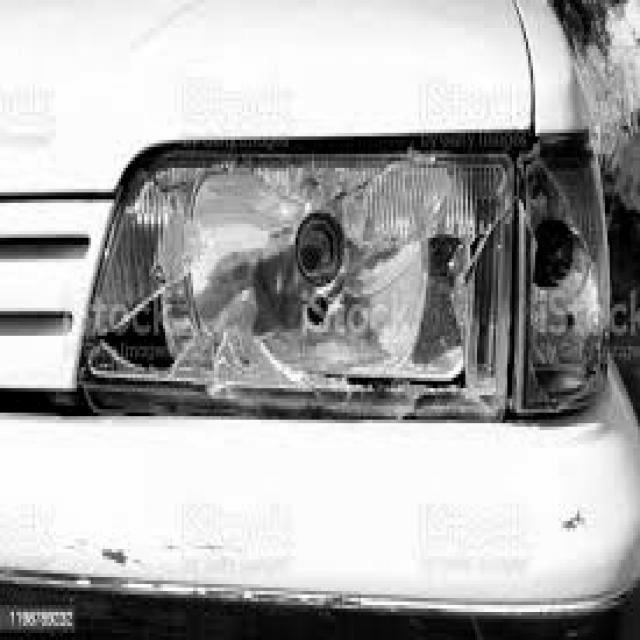Headlight-damage: (83, 126, 530, 427)
